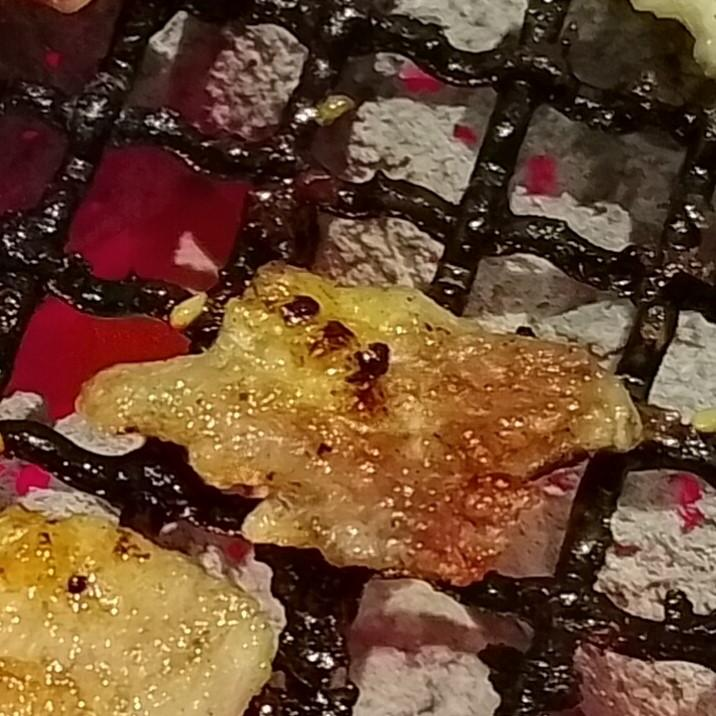Well-Cooked: (81, 261, 644, 591), (0, 502, 277, 715)
